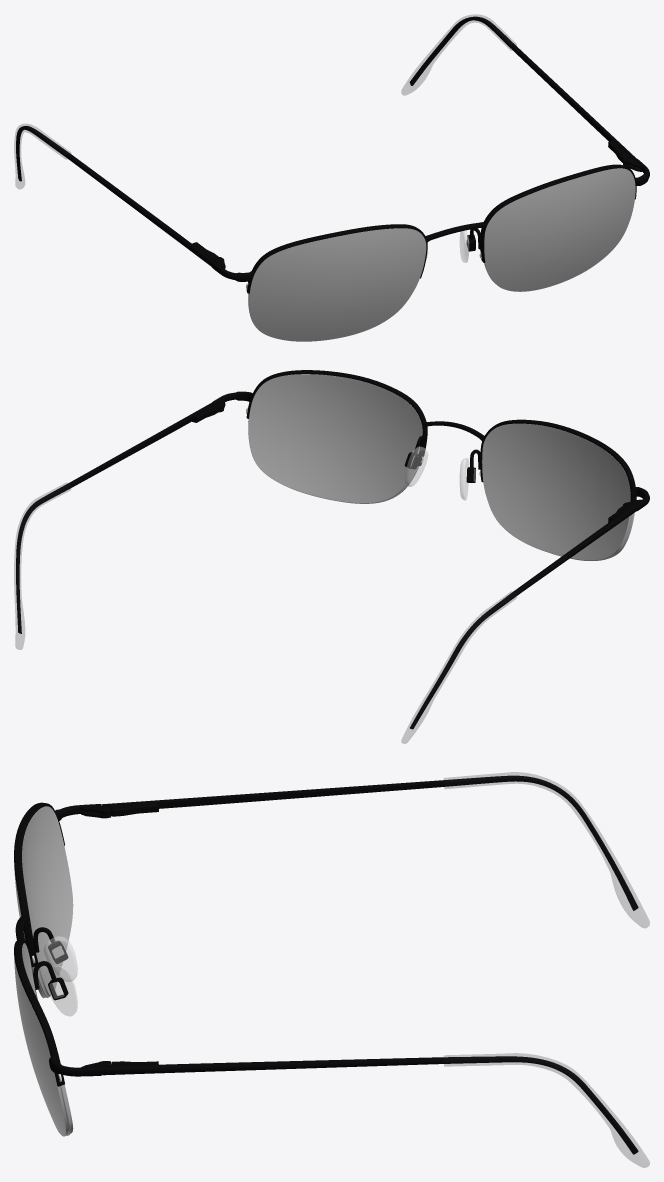
The picture shows the model from 3 angles, top to bottom: view 1: azimuth 30°, elevation 25°; view 2: azimuth 150°, elevation 25°; view 3: azimuth 270°, elevation 25°; orthographic projection. The views are drawn at different scales.
Visible parts, largest first — view 1: Lens.001_8, Frame.001_7, Temple_L.001_12, Temple_R.001_14, Temple_tip_L.001_16, Temple_tip_R.001_18; view 2: Lens.001_8, Frame.001_7, Temple_L.001_12, Temple_R.001_14, Temple_tip_R.001_18, Temple_tip_L.001_16, Nosepads.001_10; view 3: Lens.001_8, Frame.001_7, Temple_R.001_14, Temple_L.001_12, Temple_tip_R.001_18, Temple_tip_L.001_16, Nosepads.001_10.
Part boxes in pixels (<box>): Lens.001_8: <box>246,168,635,341</box>; Frame.001_7: <box>211,156,649,293</box>; Temple_L.001_12: <box>409,16,636,165</box>; Temple_R.001_14: <box>16,126,218,266</box>; Temple_tip_L.001_16: <box>401,14,516,95</box>; Temple_tip_R.001_18: <box>14,124,70,188</box>; Lens.001_8: <box>246,374,634,560</box>; Frame.001_7: <box>212,370,649,510</box>; Temple_L.001_12: <box>16,402,222,633</box>; Temple_R.001_14: <box>410,505,637,729</box>; Temple_tip_R.001_18: <box>401,591,516,743</box>; Temple_tip_L.001_16: <box>14,483,71,649</box>; Nosepads.001_10: <box>405,447,475,500</box>; Lens.001_8: <box>14,806,73,1136</box>; Frame.001_7: <box>14,802,111,1086</box>; Temple_R.001_14: <box>100,775,638,910</box>; Temple_L.001_12: <box>102,1056,638,1154</box>; Temple_tip_R.001_18: <box>444,772,649,927</box>; Temple_tip_L.001_16: <box>444,1053,649,1167</box>; Nosepads.001_10: <box>44,936,77,1015</box>.
Bounding box in the file's own units: 0.1528 × 0.0371 × 0.1438.
5 materials, 1 textured.
